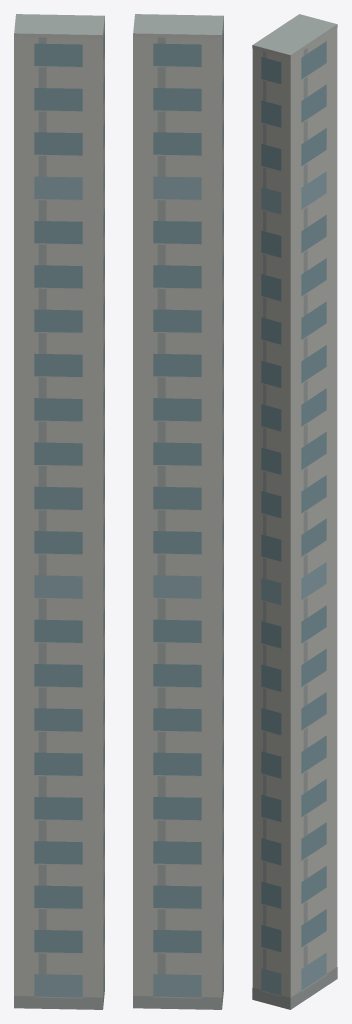
Rendered from survey-upis-32541458.glb.
3 views of the same model, side by side, from view 1: azimuth 30°, elevation 25°; view 2: azimuth 210°, elevation 25°; view 3: azimuth 270°, elevation 25° (orthographic). The views are drawn at different scales.
Parts seen in each view (by area): view 1: survey-upis-32541458.tmp; view 2: survey-upis-32541458.tmp; view 3: survey-upis-32541458.tmp.
Part boxes in pixels (left/top/right/bottom): survey-upis-32541458.tmp: left=14, top=14, right=104, bottom=1009; survey-upis-32541458.tmp: left=133, top=14, right=223, bottom=1009; survey-upis-32541458.tmp: left=252, top=14, right=337, bottom=1009.
Size of the model in its own units: 6.22 by 67.1 by 5.42.
